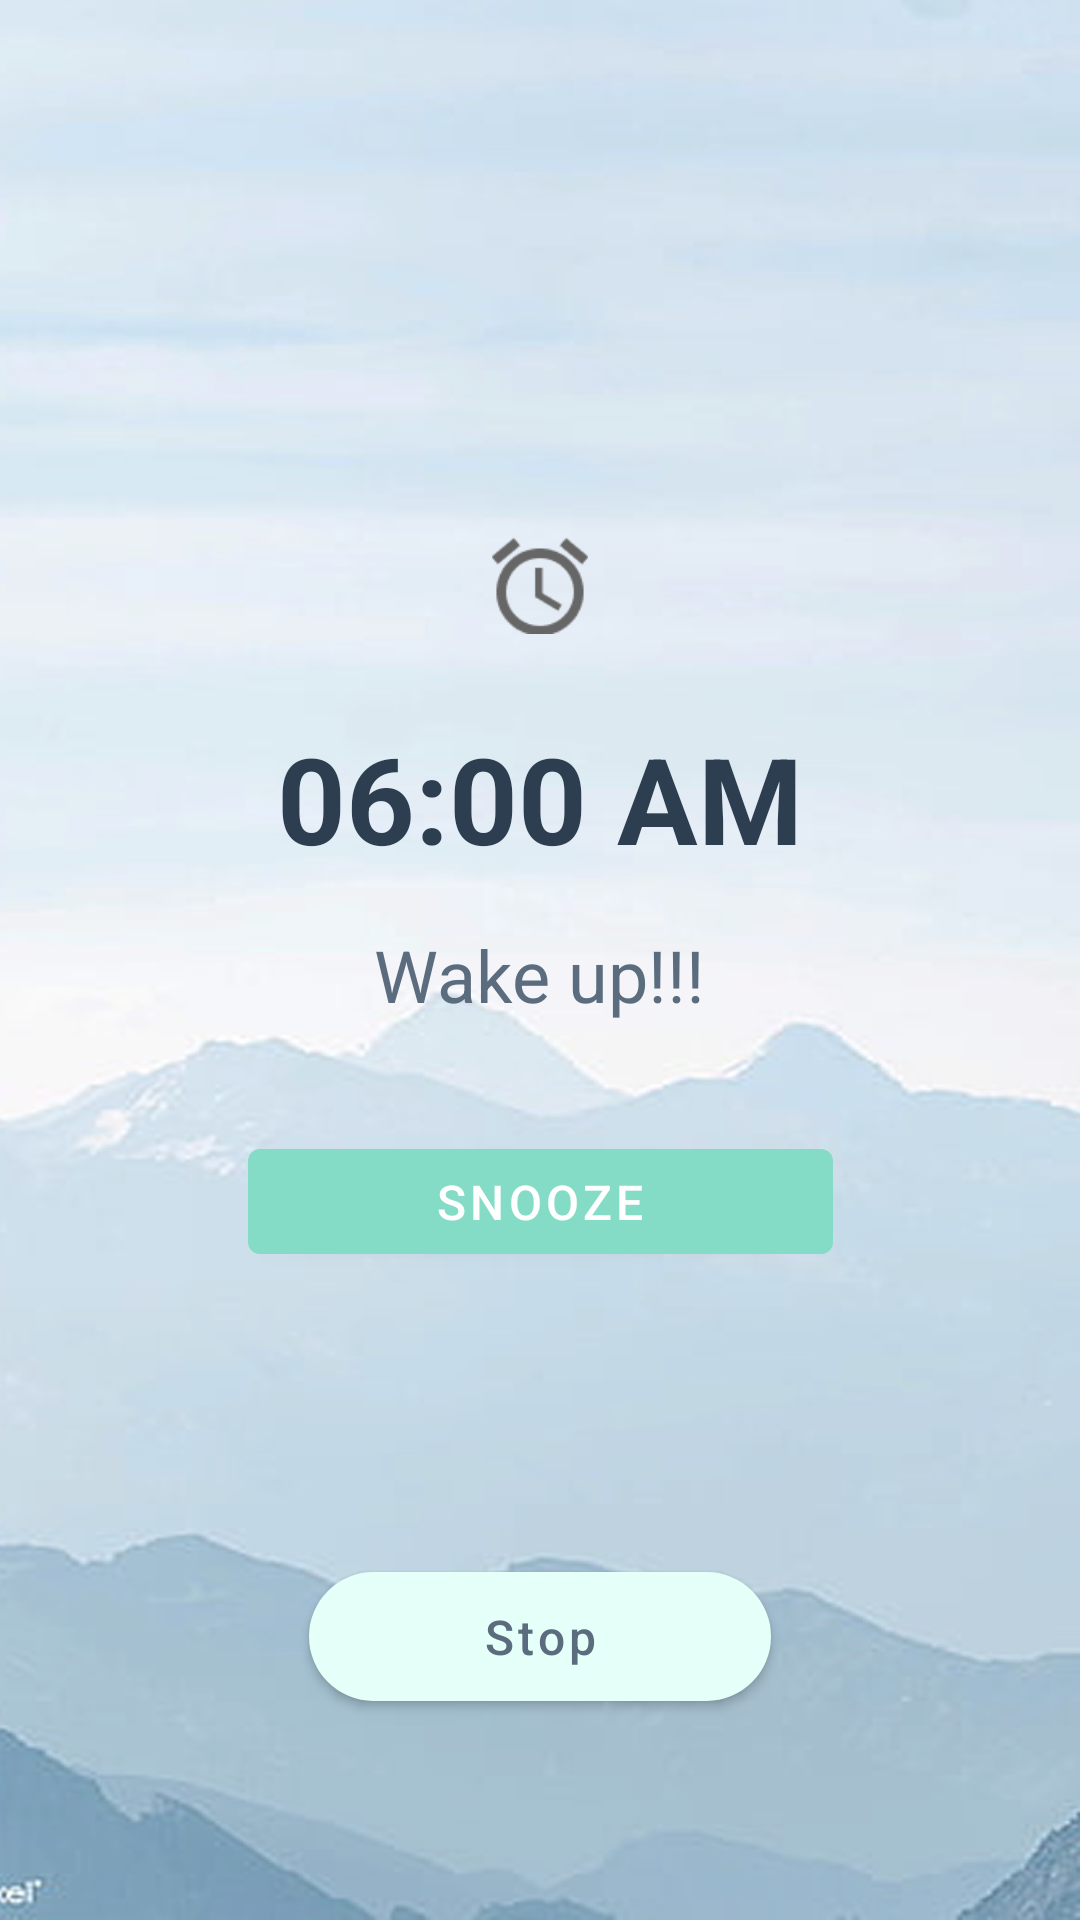

Icon click points for this 1080px×1920px phone screenshot, format point (x, y):
alarm enable: point (540, 586)
